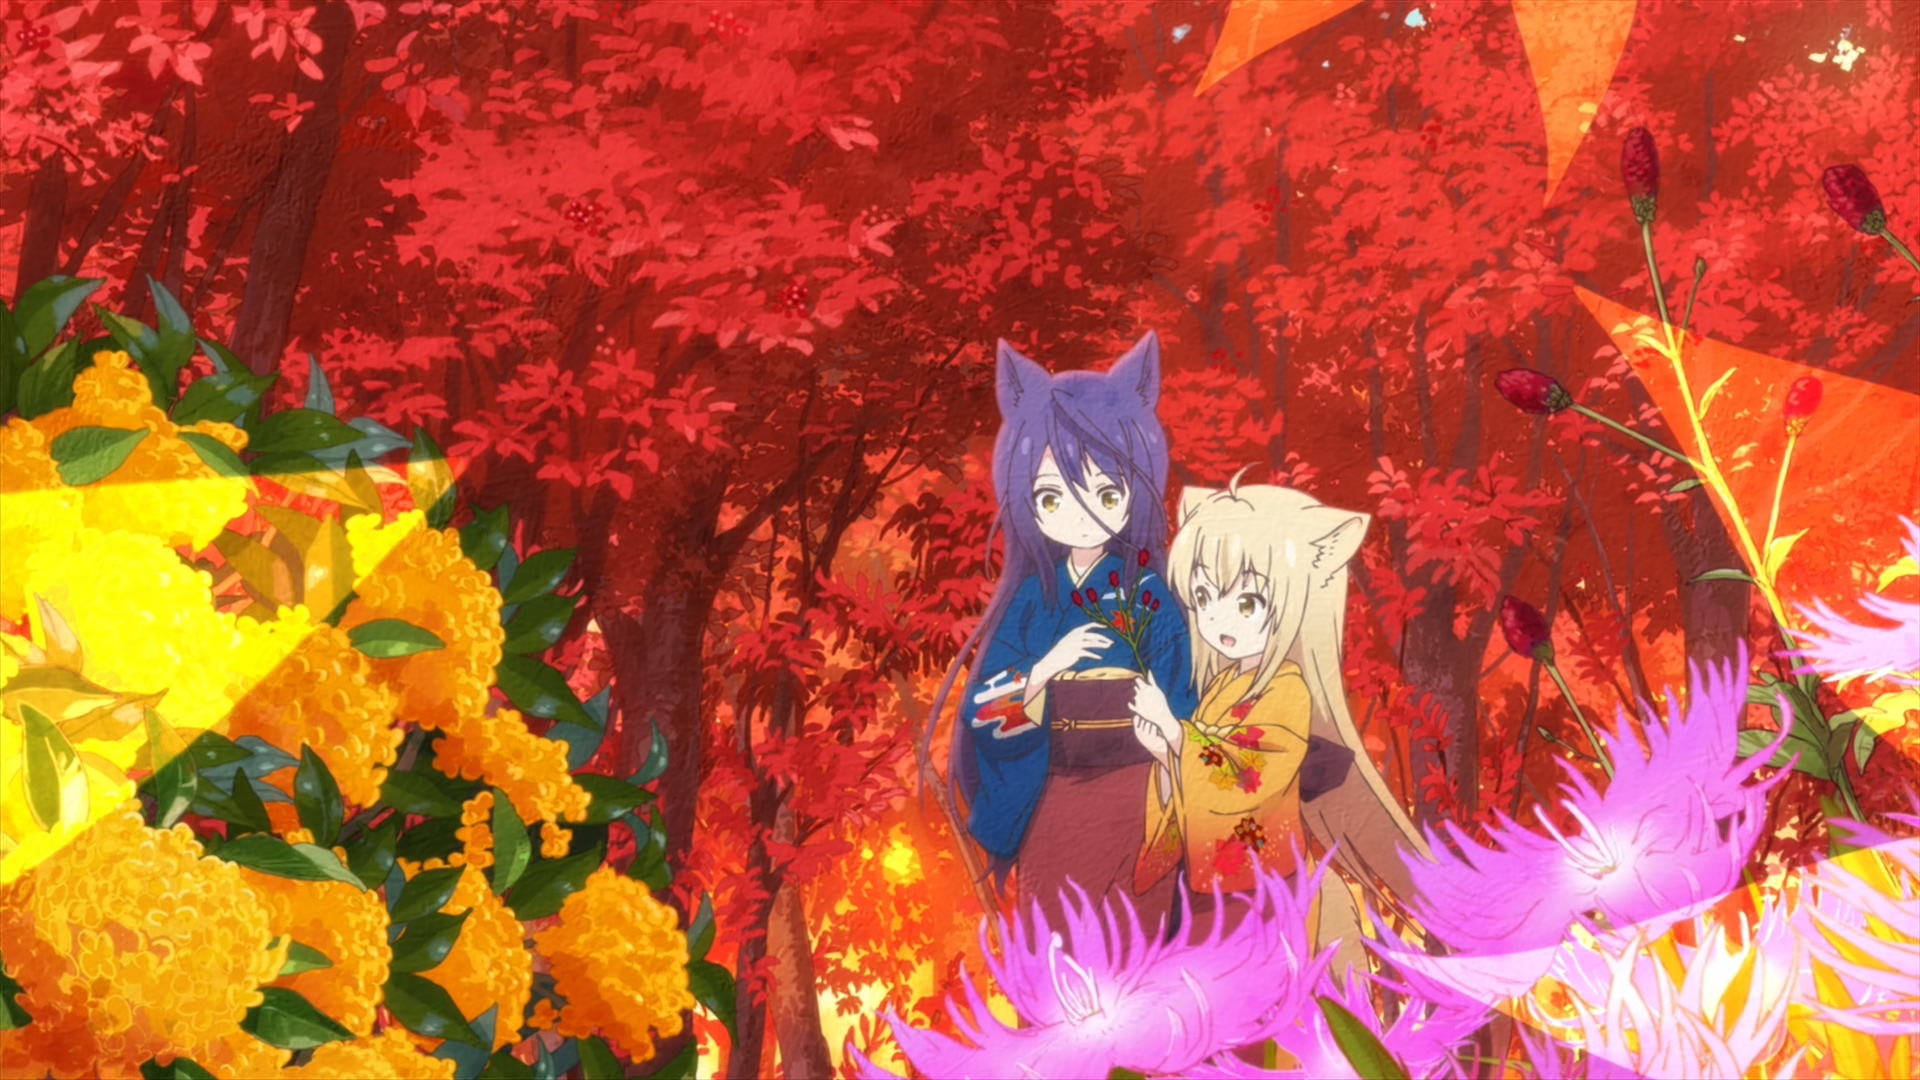柚: (1129, 462, 1435, 1009)
皋: (918, 330, 1197, 1030)
